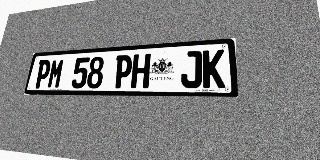5: (71, 57, 90, 88)
8: (86, 56, 105, 88)
H: (130, 53, 151, 88)
J: (181, 50, 202, 88)
K: (203, 49, 225, 88)
M: (46, 59, 65, 88)
P: (113, 55, 133, 88), (33, 59, 52, 88)
